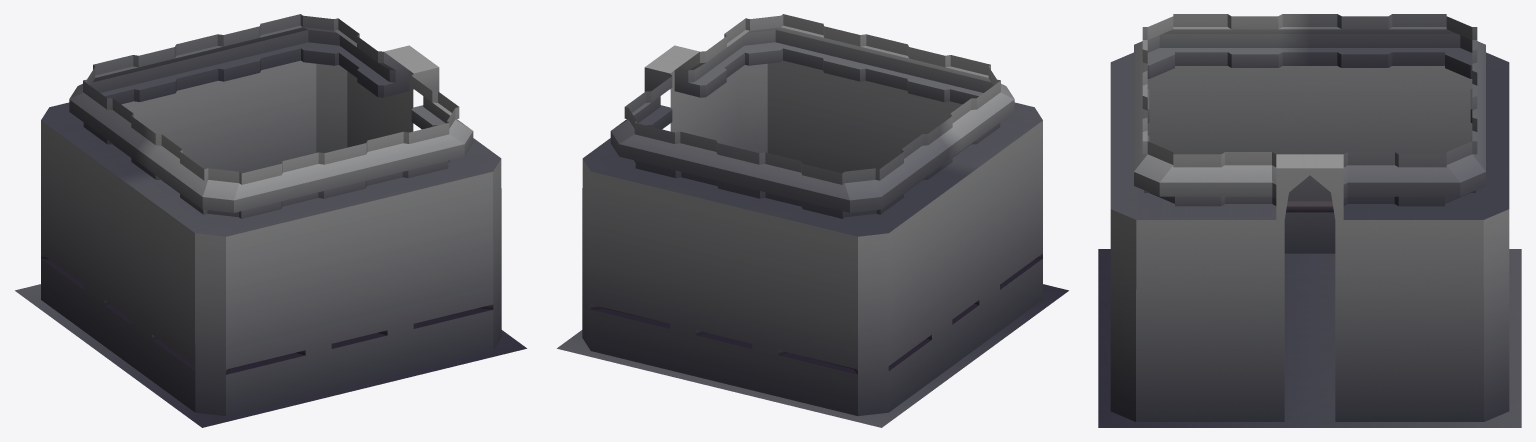
Rendered from Pantheon_Paredes.fbx.
3 renders of one model, left to right at view 1: azimuth 30°, elevation 25°; view 2: azimuth 150°, elevation 25°; view 3: azimuth 270°, elevation 25°, orthographic. The views are drawn at different scales.
Visible parts, largest first — view 1: Pantheon_Paredes; view 2: Pantheon_Paredes; view 3: Pantheon_Paredes.
Boxes of the visible parts, x1,y1,x2,y2 form: Pantheon_Paredes: (15,14,526,427); Pantheon_Paredes: (557,14,1068,427); Pantheon_Paredes: (1098,14,1521,427).
Size of the model in its own units: 11680 by 7747 by 11680.
